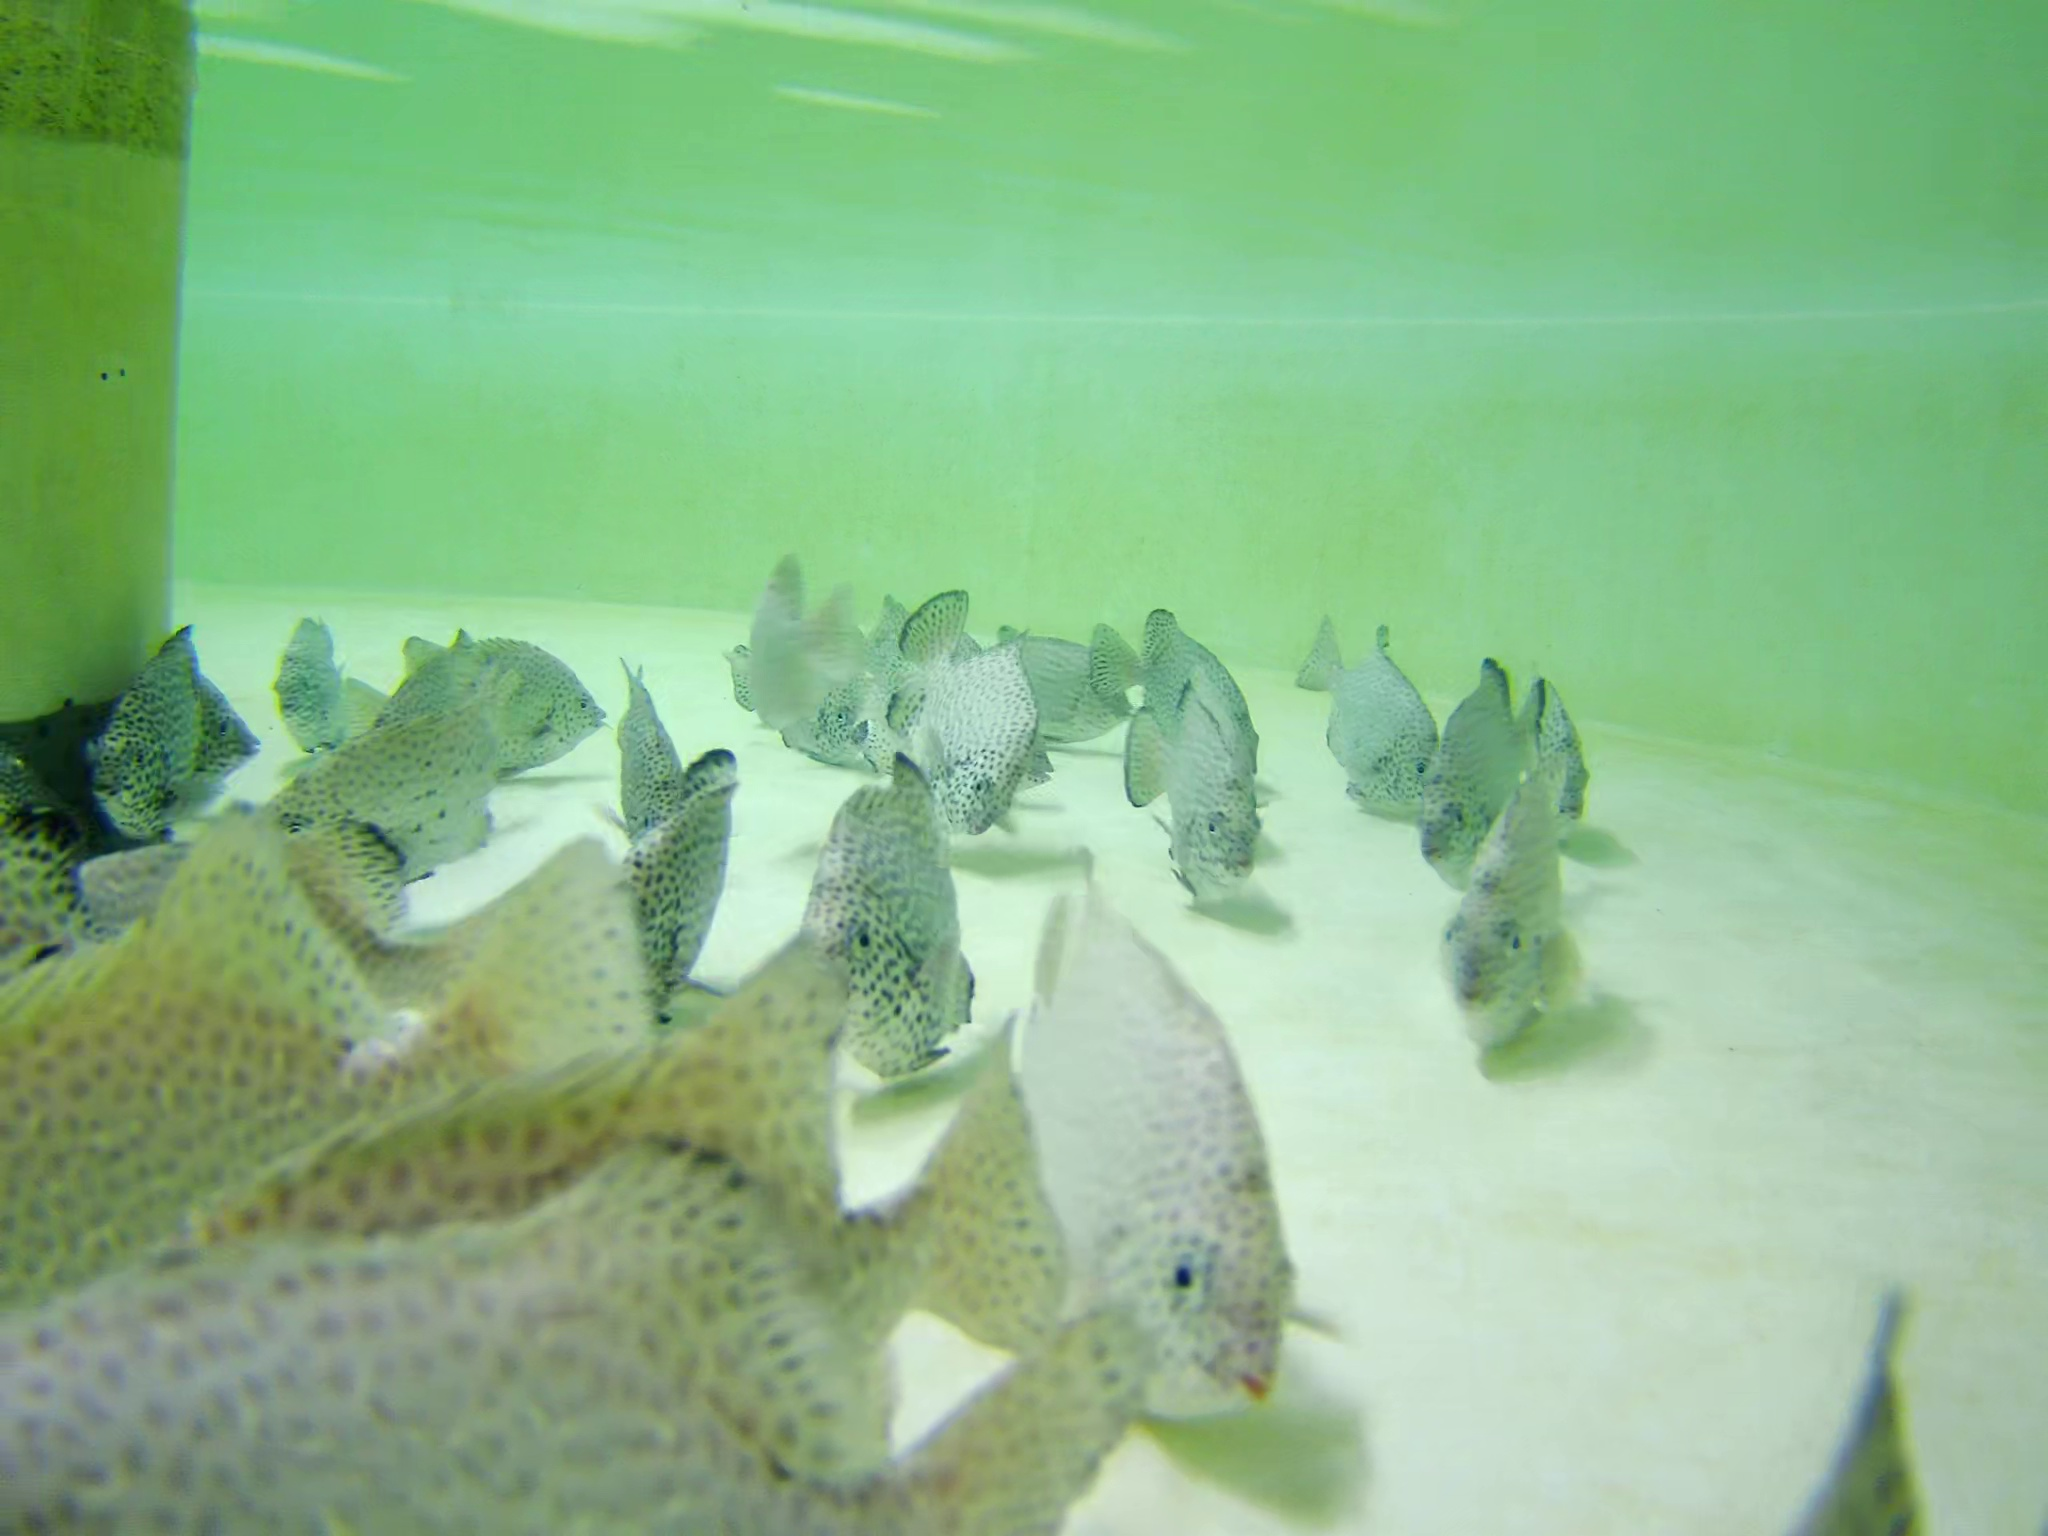fish: (2, 1144, 1159, 1536), (37, 963, 1074, 1400), (2, 816, 664, 1310), (958, 852, 1316, 1409), (805, 757, 998, 1068), (1417, 755, 1600, 1050), (342, 632, 608, 771), (879, 594, 1037, 826), (1301, 599, 1451, 820), (1116, 674, 1264, 897), (1095, 603, 1264, 791), (1429, 639, 1529, 900), (601, 668, 710, 900), (755, 566, 882, 763), (110, 634, 223, 828), (958, 615, 1129, 742), (726, 613, 866, 729), (169, 647, 263, 791), (273, 600, 343, 758), (1532, 660, 1596, 812)
